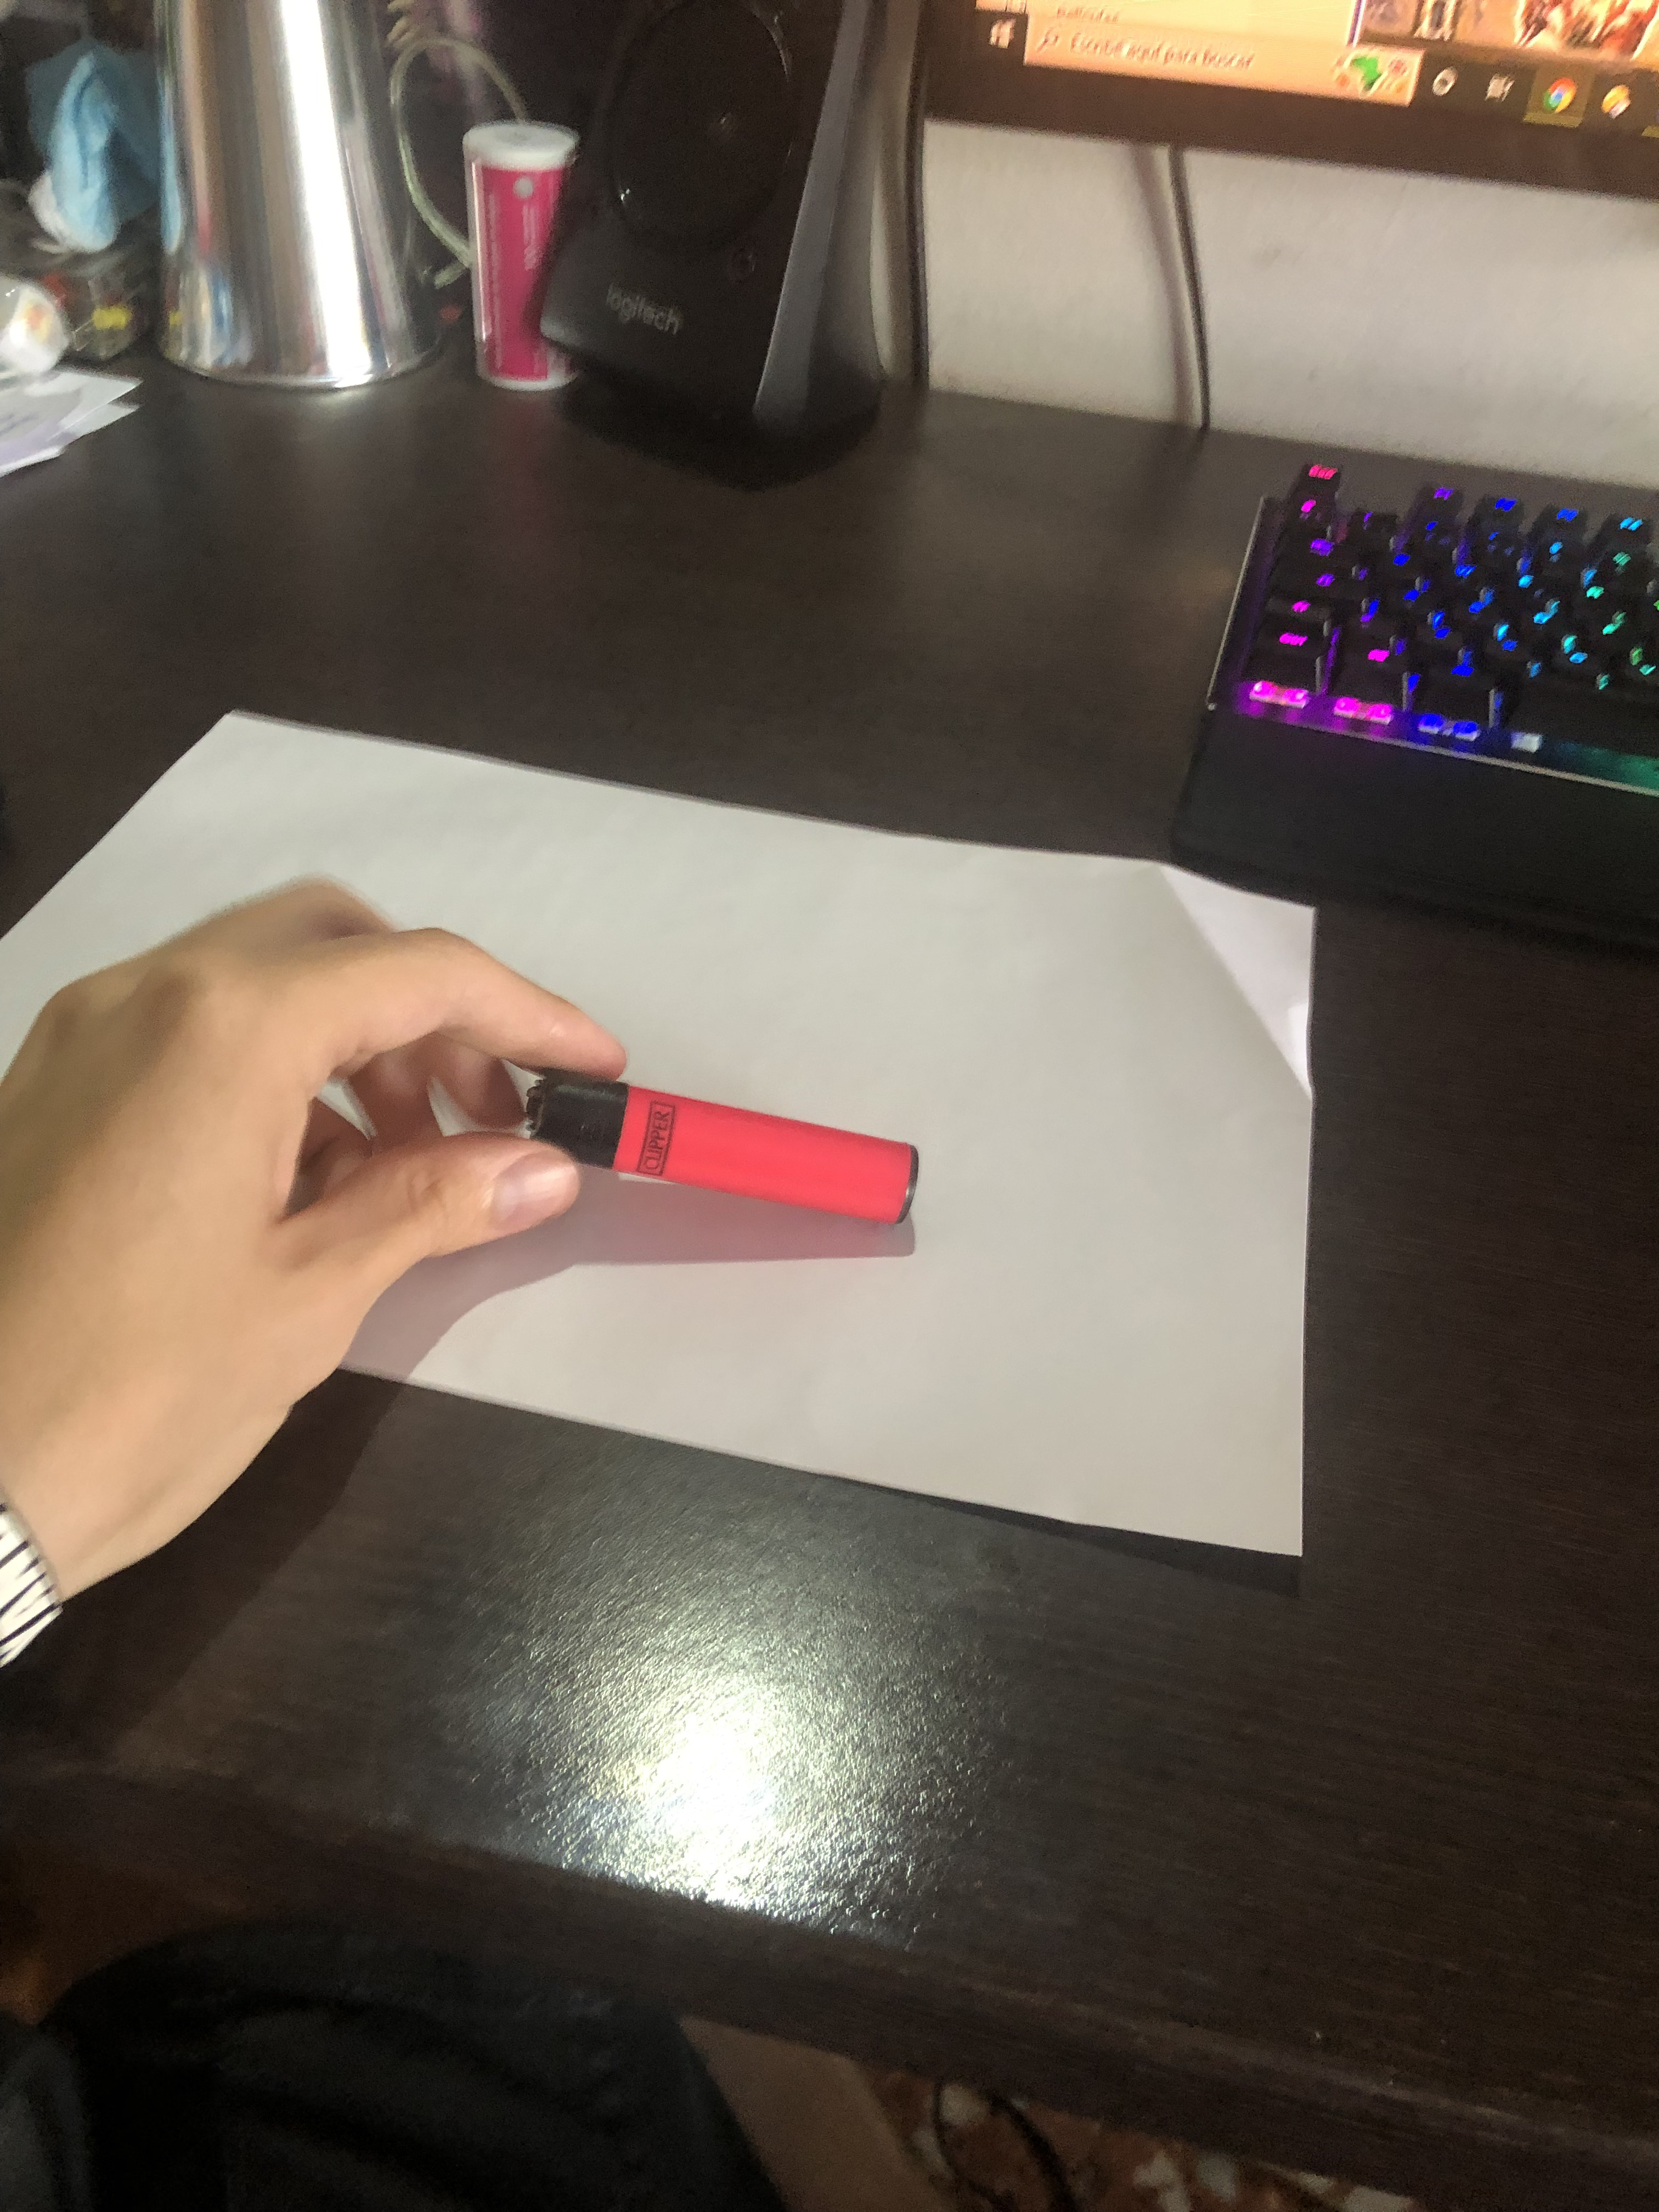Mechero: (512, 1057, 965, 1259)
